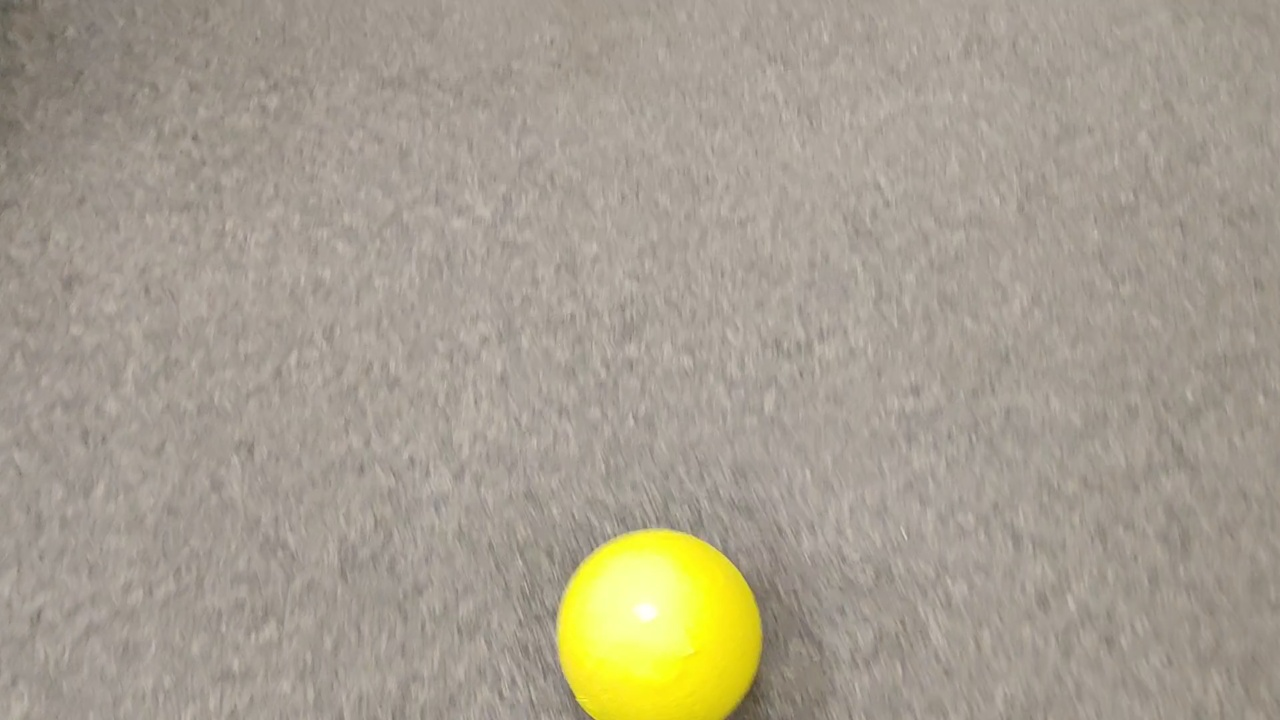Ball: (552, 528, 765, 717)
